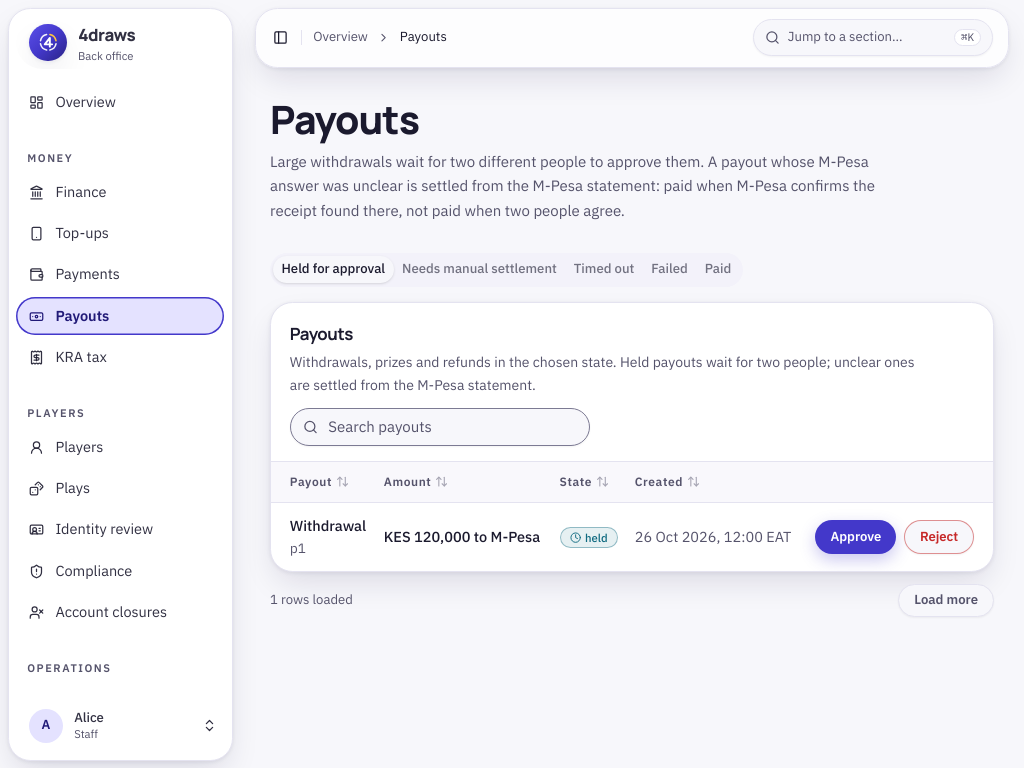
Test: payouts › a lost answer is shown as unknown and checked again with the same key
The image size is (1024, 768).
Step 1. Click the button "Approve" → [856, 537], box [815,520,896,554]
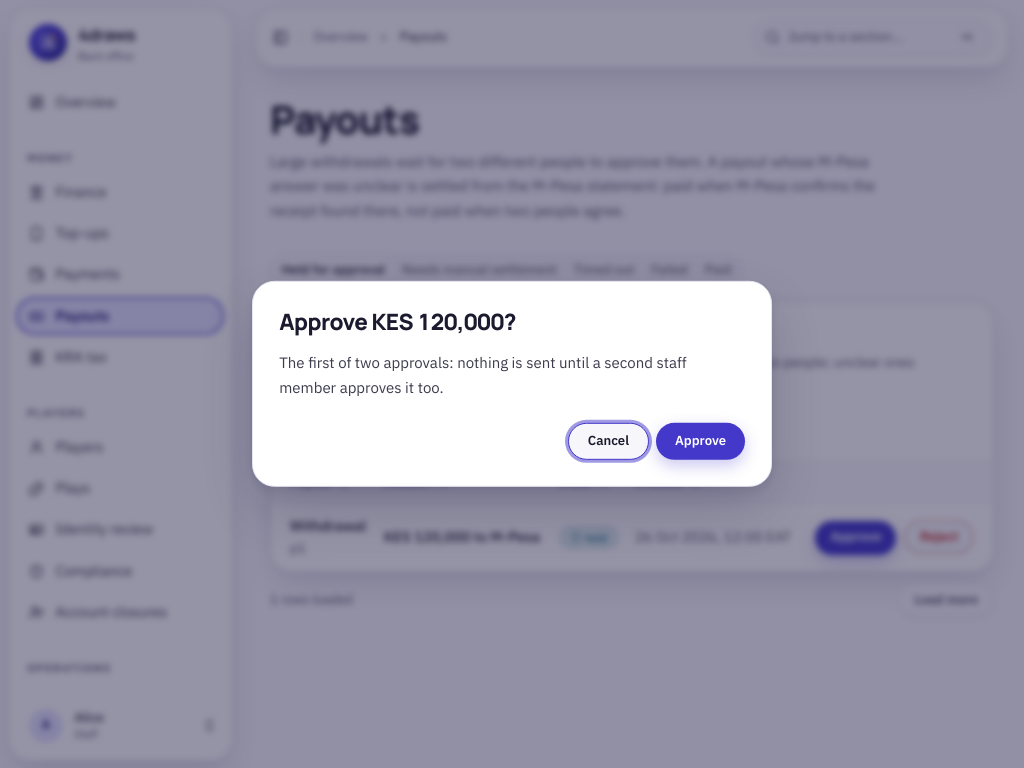
Step 2. Click the button "Approve" → [701, 441], box [656,422,745,460]
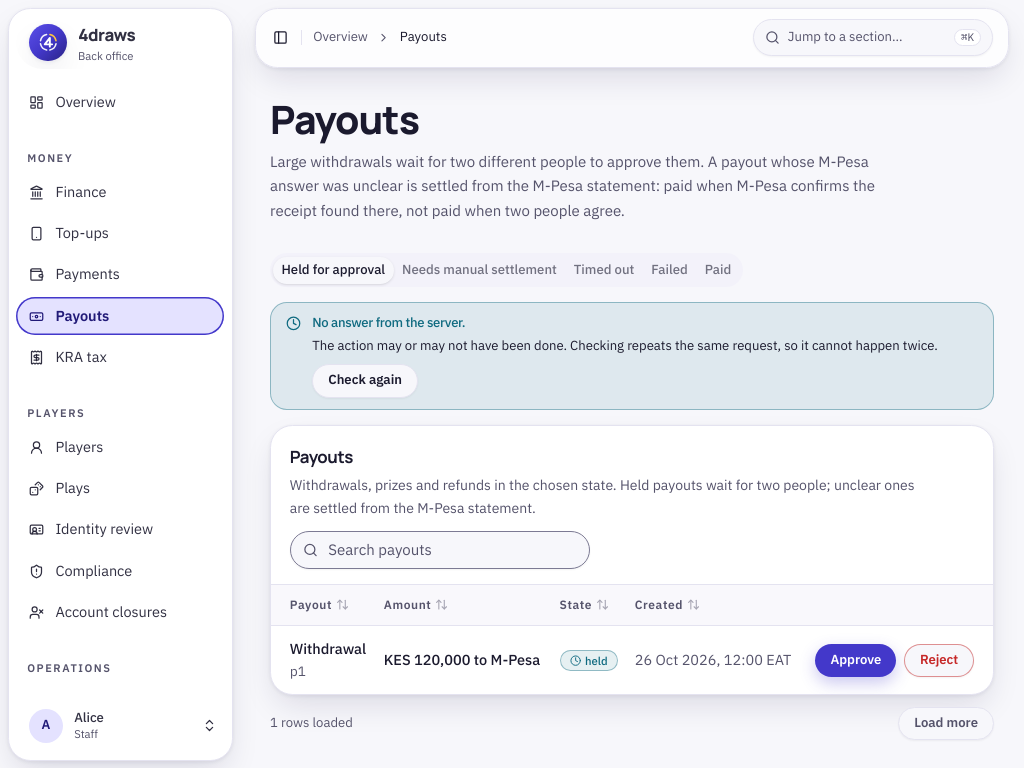
Expected: the text "No answer from the server." is shown, [312,314,465,331]
Step 3. Click the button "Check again" → [365, 380], box [312,363,418,397]
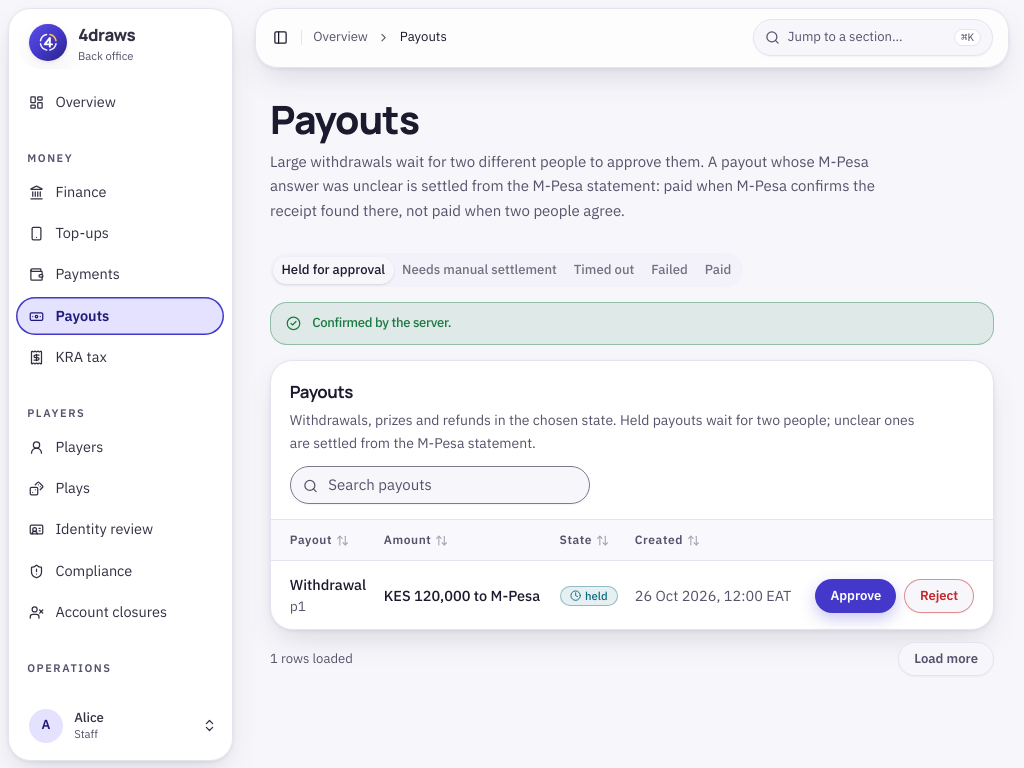
Expected: the message reads "Confirmed by the server.", [312,314,451,331]
